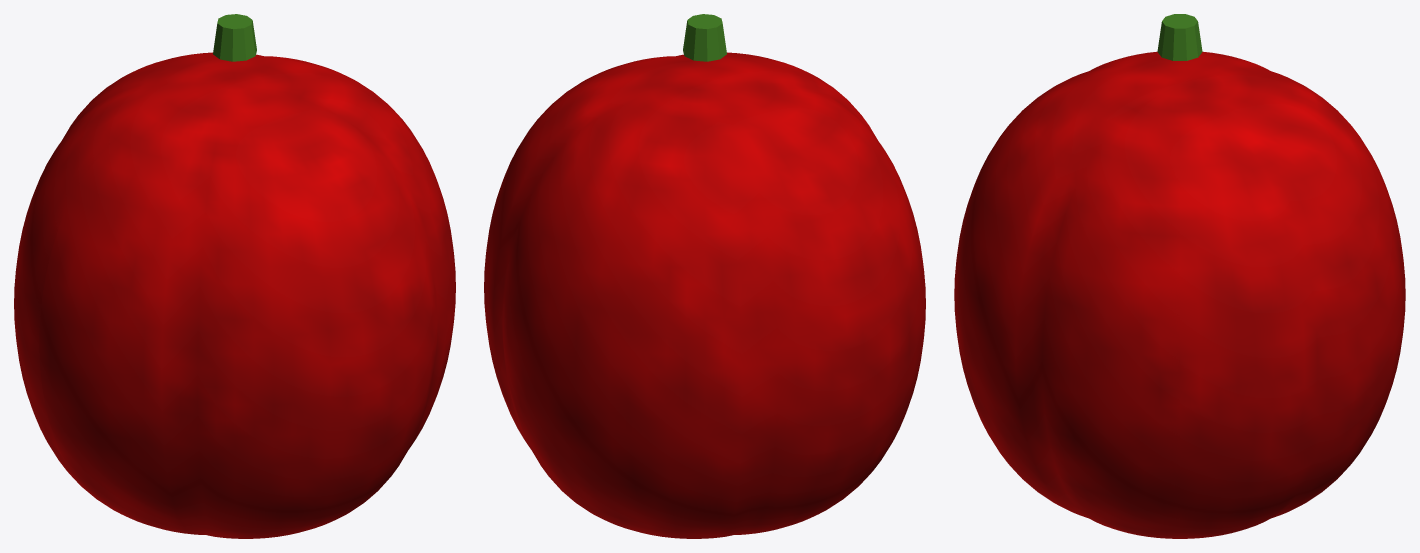
Rendered from poivron-rouge.glb.
3 renders of one model, left to right at view 1: azimuth 30°, elevation 25°; view 2: azimuth 150°, elevation 25°; view 3: azimuth 270°, elevation 25°, orthographic.
Parts seen in each view (by area): view 1: entier_peau, moitie_B_peau, moitie_A_peau, entier_extra0; view 2: entier_peau, moitie_A_peau, moitie_B_peau, entier_extra0; view 3: entier_peau, moitie_B_peau, moitie_A_peau, entier_extra0.
Part boxes in pixels (x1=…): entier_peau: x1=14, y1=52, x2=455, y2=538; moitie_B_peau: x1=39, y1=73, x2=455, y2=538; moitie_A_peau: x1=14, y1=53, x2=351, y2=490; entier_extra0: x1=213, y1=14, x2=256, y2=61; entier_peau: x1=484, y1=52, x2=925, y2=538; moitie_A_peau: x1=485, y1=73, x2=900, y2=535; moitie_B_peau: x1=578, y1=55, x2=925, y2=486; entier_extra0: x1=683, y1=14, x2=726, y2=61; entier_peau: x1=954, y1=51, x2=1405, y2=538; moitie_B_peau: x1=954, y1=59, x2=1179, y2=538; moitie_A_peau: x1=1180, y1=61, x2=1405, y2=538; entier_extra0: x1=1157, y1=14, x2=1202, y2=60.
Bounding box in the file's own units: 1.6 × 1.9 × 1.6.
